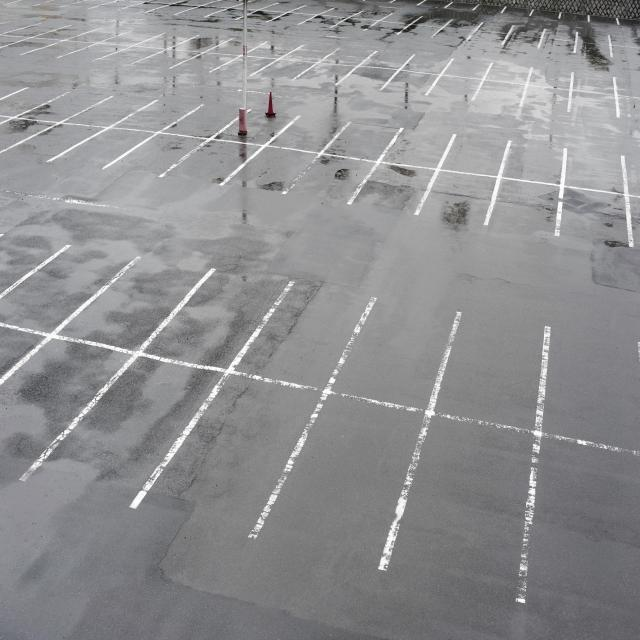free: (19, 345, 235, 512), (323, 292, 468, 420), (421, 304, 555, 438), (50, 252, 219, 356), (101, 125, 218, 186), (415, 167, 506, 226), (212, 89, 304, 145)
